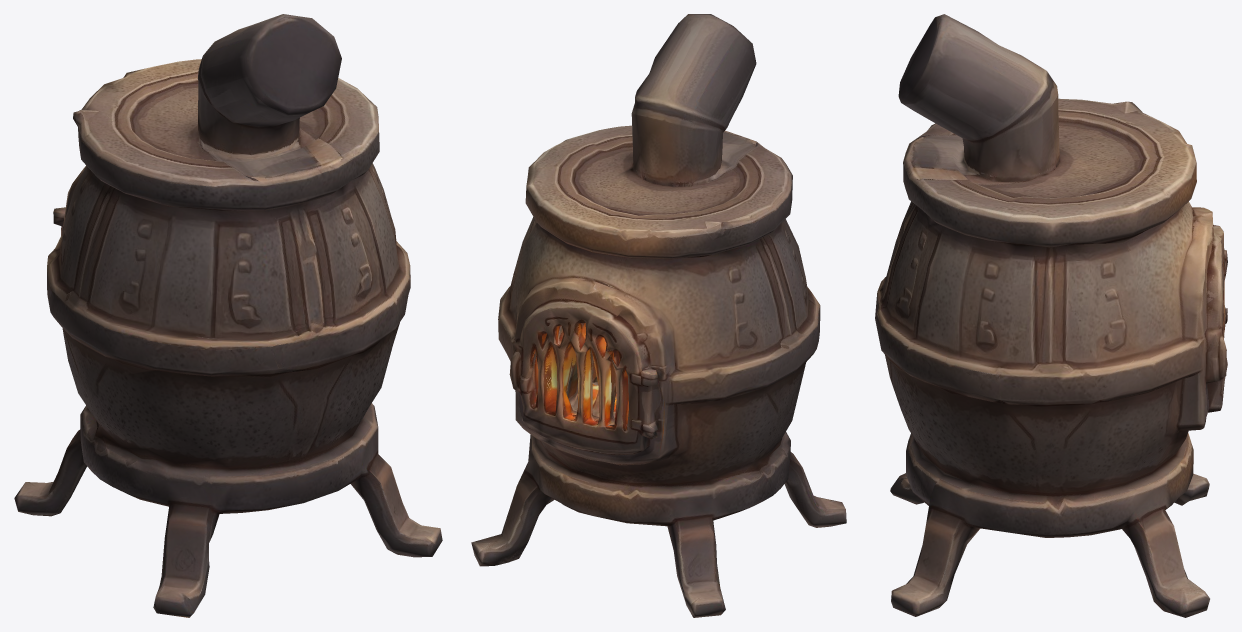
Rendered from SM_Env_Stove.fbx.
3 views of the same model, side by side, from view 1: azimuth 30°, elevation 25°; view 2: azimuth 150°, elevation 25°; view 3: azimuth 270°, elevation 25° (orthographic). The views are drawn at different scales.
Visible parts, largest first — view 1: SM_Env_Stove; view 2: SM_Env_Stove; view 3: SM_Env_Stove.
Boxes of the visible parts, <box> form: SM_Env_Stove: <box>14,14,442,617</box>; SM_Env_Stove: <box>471,14,846,617</box>; SM_Env_Stove: <box>875,14,1227,617</box>.
Bounding box in the file's own units: 0.7129 × 1.2 × 0.7177.
